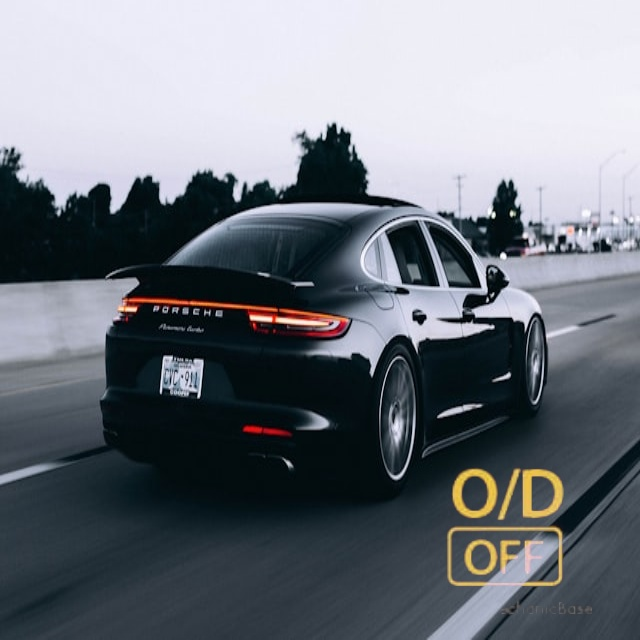symbol: (411, 435, 600, 624)
